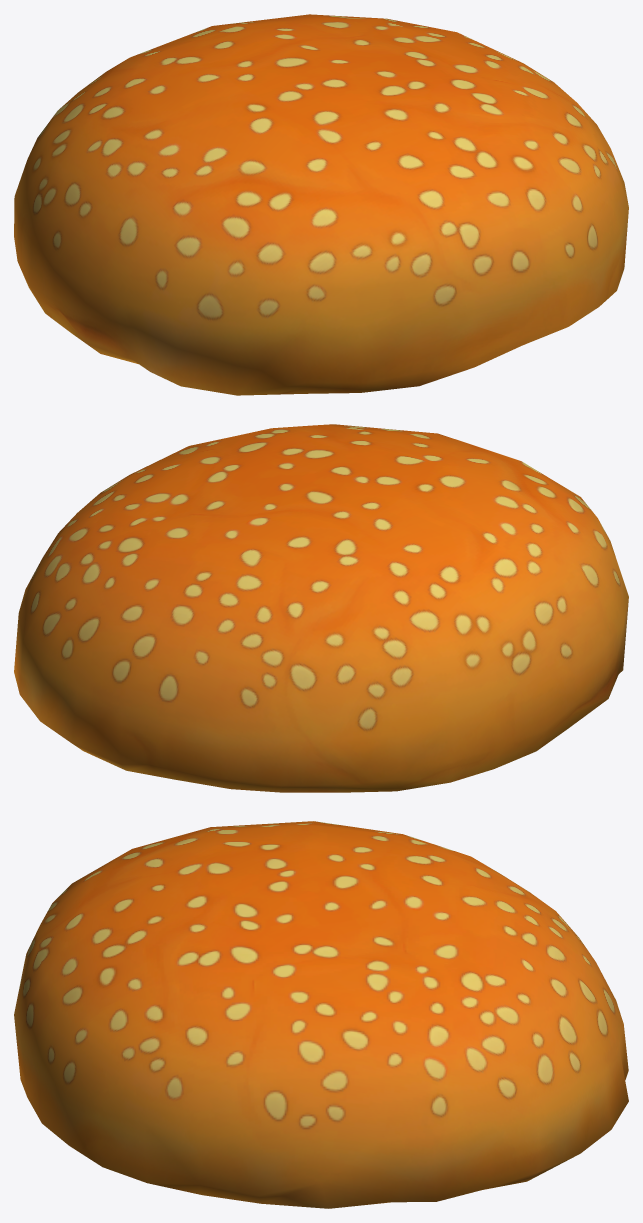
File: SM_BurgerBunToastedTopSeeds.glb
The picture shows the model from 3 angles, top to bottom: view 1: azimuth 30°, elevation 25°; view 2: azimuth 150°, elevation 25°; view 3: azimuth 270°, elevation 25°; orthographic projection. The views are drawn at different scales.
Parts seen in each view (by area): view 1: SM_BurgerBunToastedTopSeeds; view 2: SM_BurgerBunToastedTopSeeds; view 3: SM_BurgerBunToastedTopSeeds.
Boxes of the visible parts, x1,y1,x2,y2 form: SM_BurgerBunToastedTopSeeds: [14, 14, 628, 395]; SM_BurgerBunToastedTopSeeds: [14, 424, 628, 792]; SM_BurgerBunToastedTopSeeds: [14, 821, 628, 1208].
Bounding box in the file's own units: 0.1859 × 0.0673 × 0.1859.
Materials: 1 (1 with a texture image).
